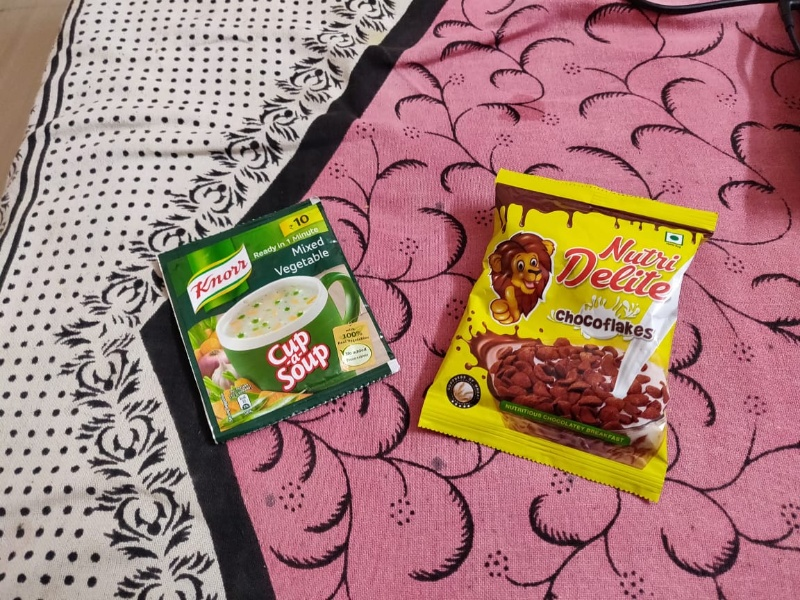Knorr_Cup_Soup: (155, 201, 398, 456)
nutriDelite: (420, 170, 719, 494)
